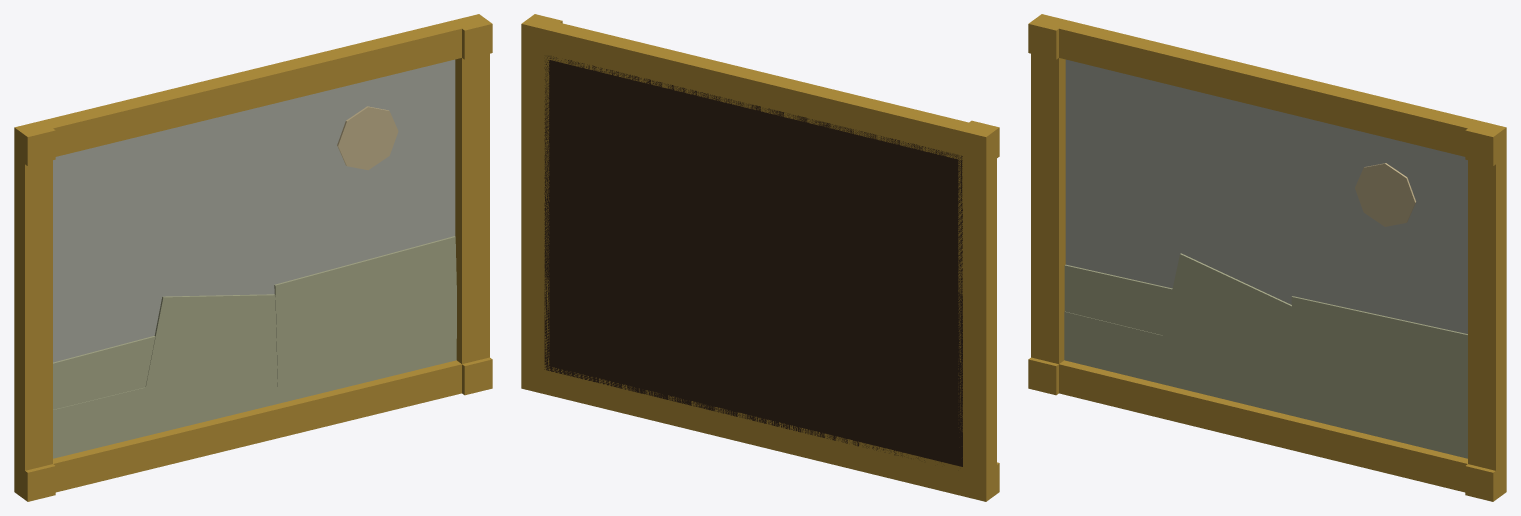
Rendered from Prop_Gal_LivingFrame_Faded_LOD1.glb.
The picture shows the model from 3 angles, left to right: view 1: azimuth 30°, elevation 25°; view 2: azimuth 150°, elevation 25°; view 3: azimuth 330°, elevation 25°; orthographic projection.
Parts seen in each view (by area): view 1: Prop_Gal_LivingFrame_Faded_Canvas, Prop_Gal_LivingFrame_Faded; view 2: Prop_Gal_LivingFrame_Faded; view 3: Prop_Gal_LivingFrame_Faded_Canvas, Prop_Gal_LivingFrame_Faded.
Boxes of the visible parts, x1,y1,x2,y2 form: Prop_Gal_LivingFrame_Faded_Canvas: (53,59,456,458); Prop_Gal_LivingFrame_Faded: (14,14,492,501); Prop_Gal_LivingFrame_Faded: (521,14,999,501); Prop_Gal_LivingFrame_Faded_Canvas: (1064,59,1467,458); Prop_Gal_LivingFrame_Faded: (1028,14,1506,501).
Size of the model in its own units: 2 by 1.5 by 0.1.
